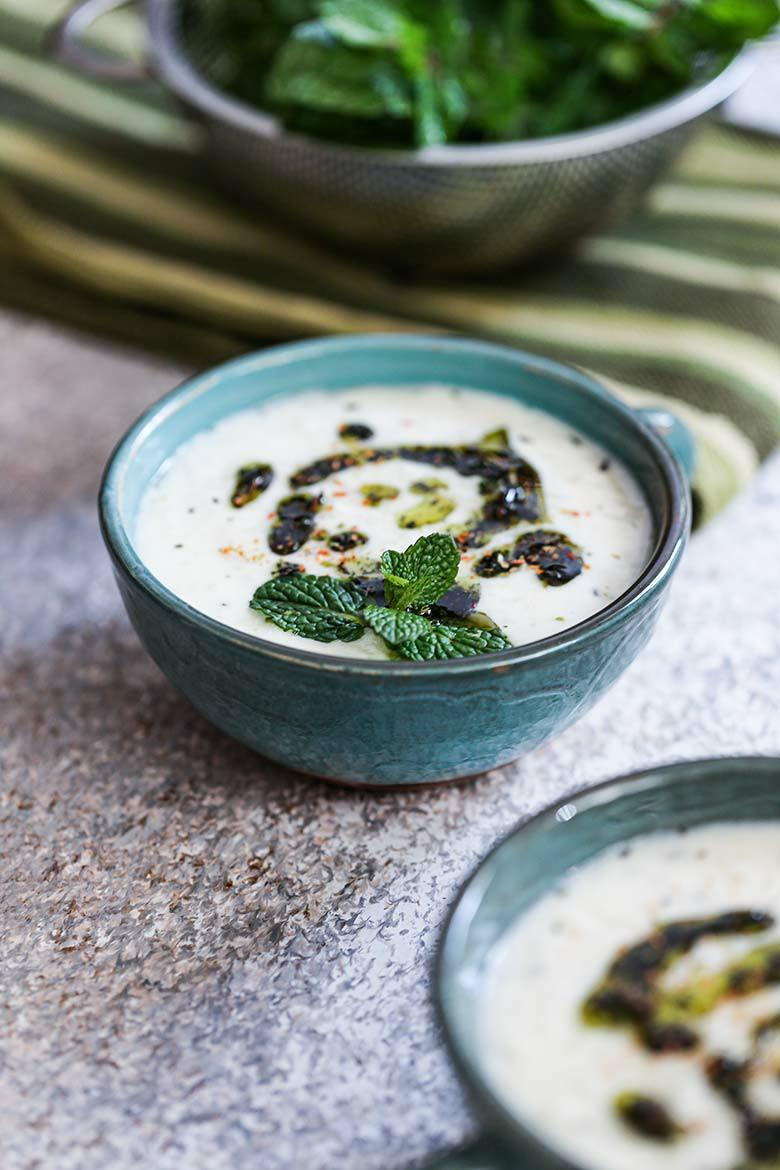CoconutChutney: (138, 371, 651, 656)
